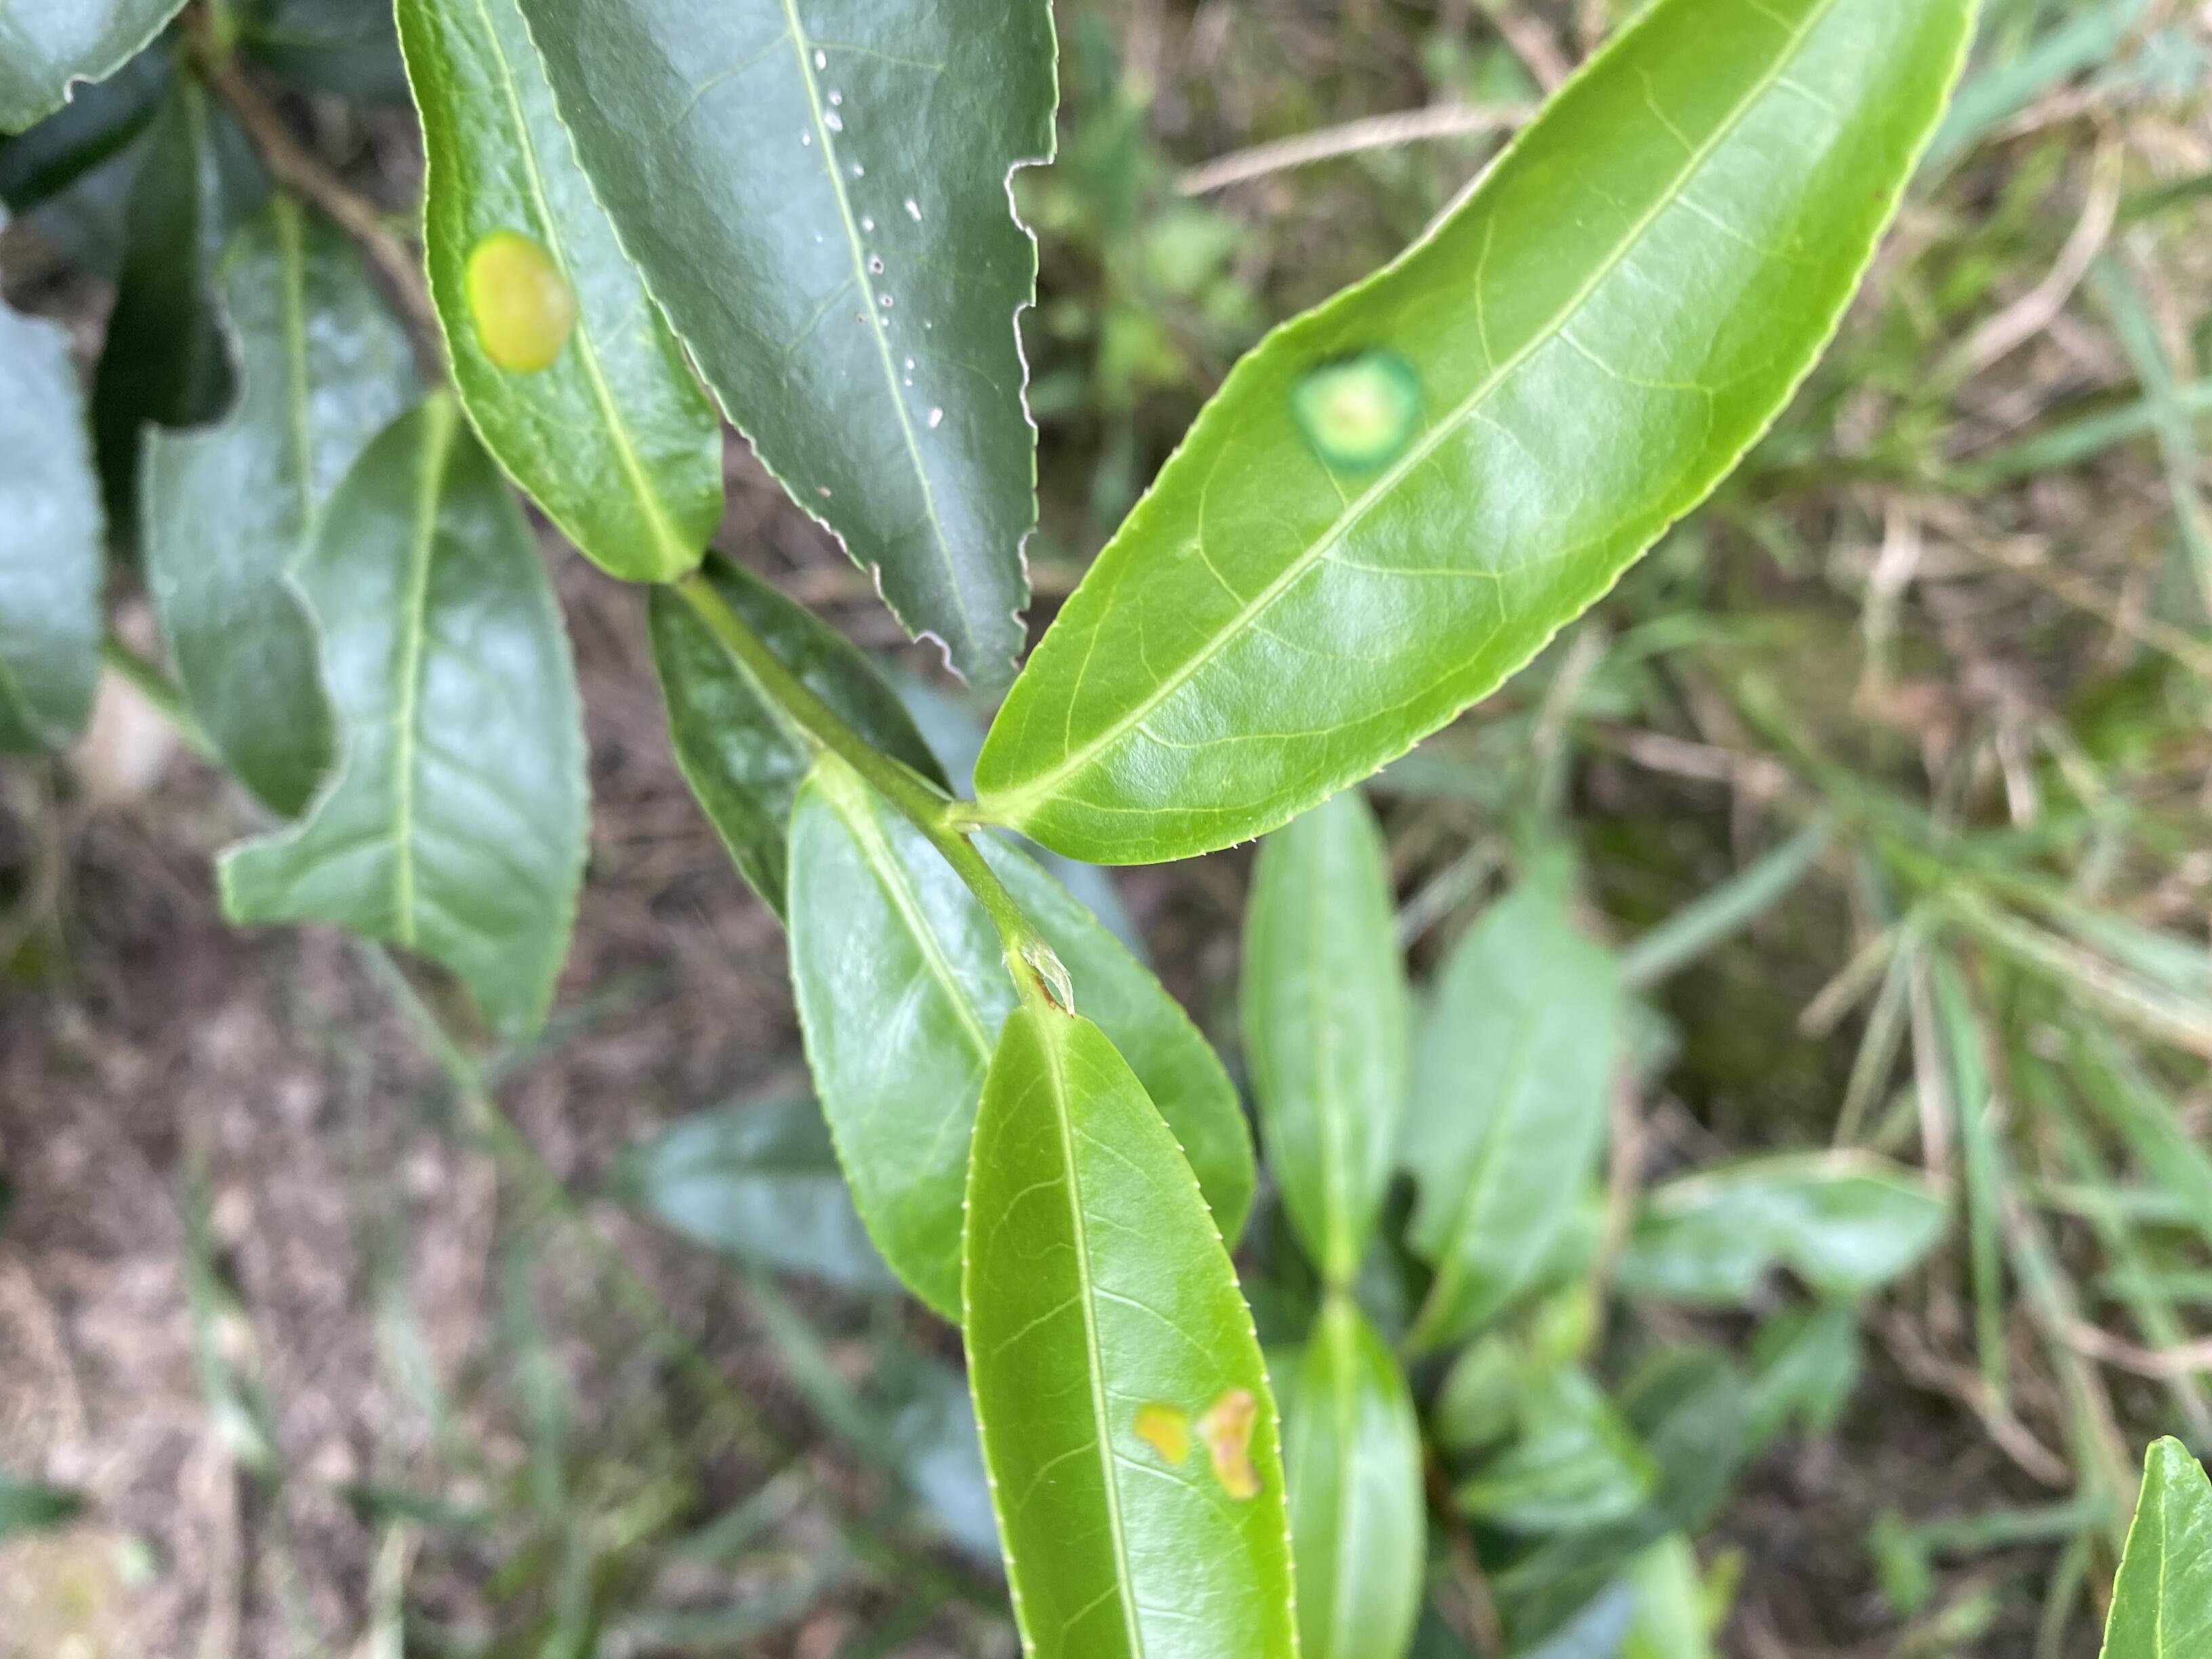chabing_high: (958, 1000, 1299, 1656)
chabing_low: (975, 2, 1980, 868), (390, 2, 725, 582)
chihuo_high: (516, 5, 1062, 695)
